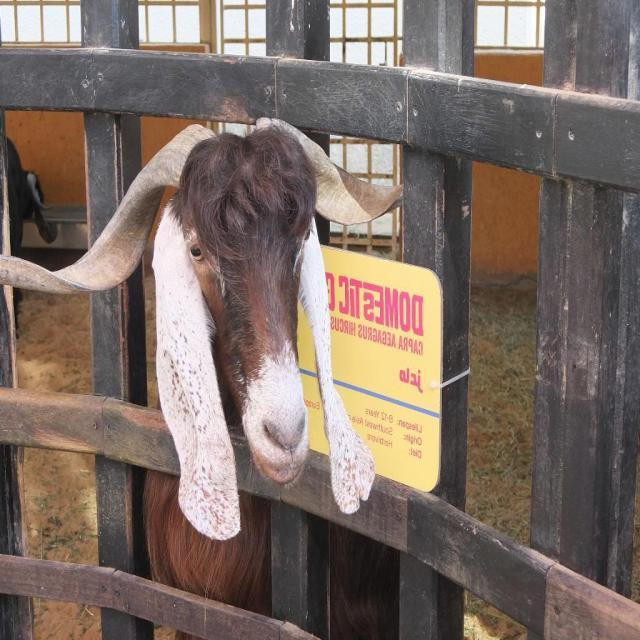Goat: (3, 115, 408, 638), (3, 134, 59, 339)
